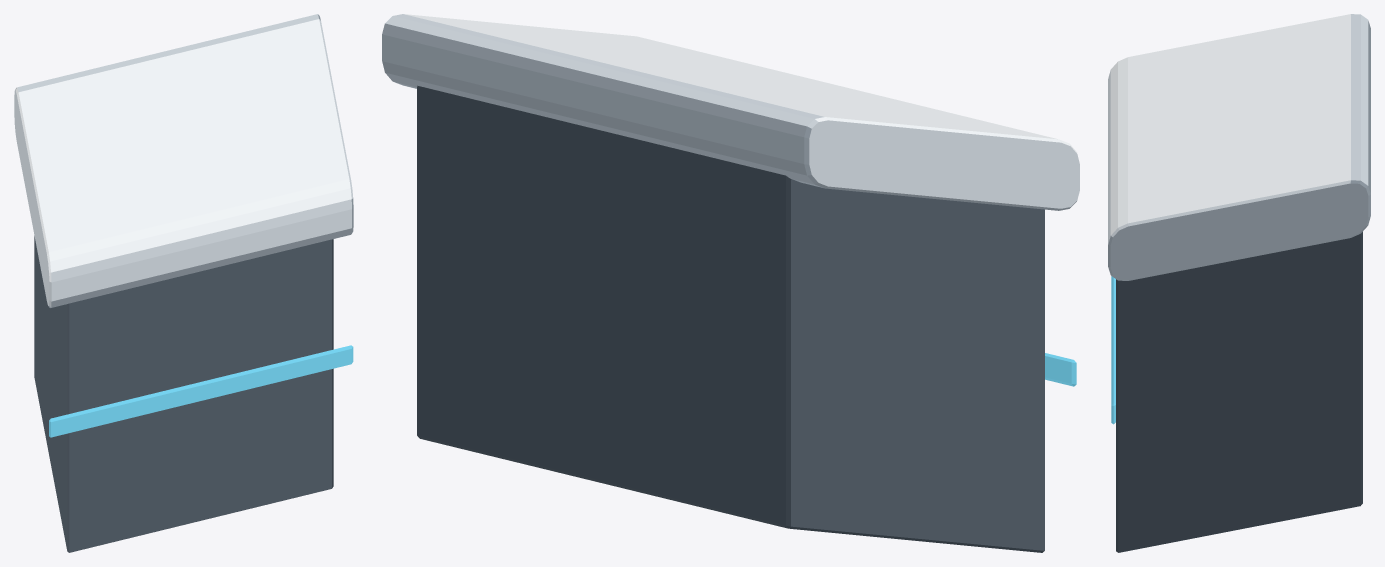
Rendered from Bridge_Deck.gltf.
3 renders of one model, left to right at view 1: azimuth 30°, elevation 25°; view 2: azimuth 150°, elevation 25°; view 3: azimuth 270°, elevation 25°, orthographic. The views are drawn at different scales.
Parts seen in each view (by area): view 1: Bridge_Deck_baked; view 2: Bridge_Deck_baked; view 3: Bridge_Deck_baked.
Part boxes in pixels (x1,y1,x2,y2): Bridge_Deck_baked: (14,14,353,552); Bridge_Deck_baked: (382,14,1079,552); Bridge_Deck_baked: (1108,14,1370,552).
Bounding box in the file's own units: 1.26 × 1.17 × 0.66.
